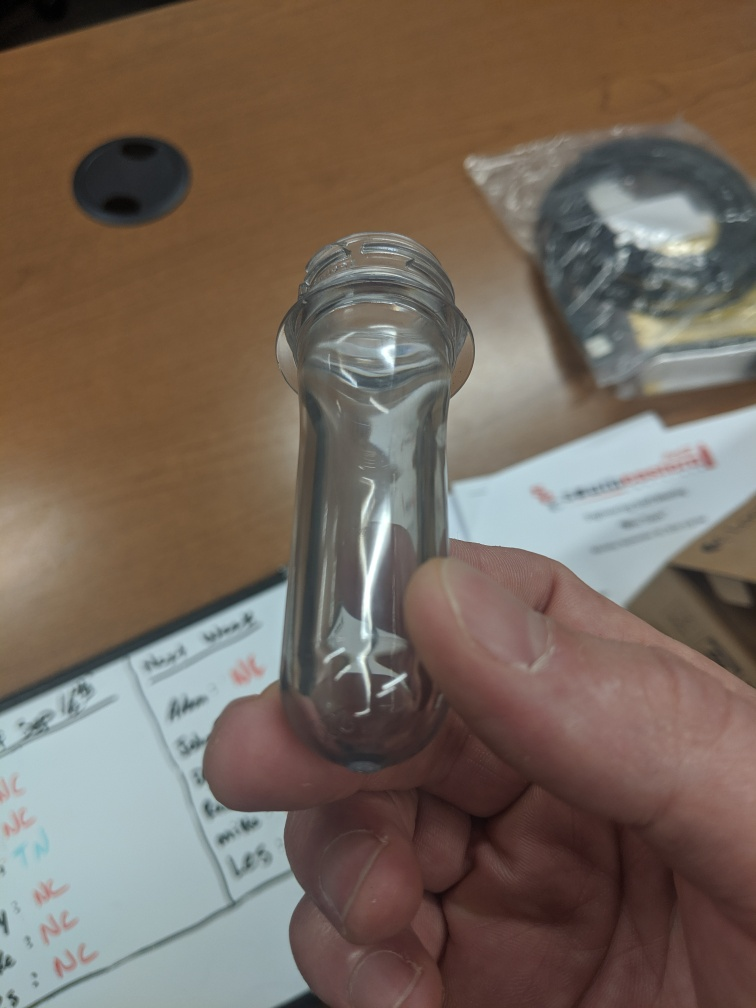preform: (266, 218, 486, 778)
